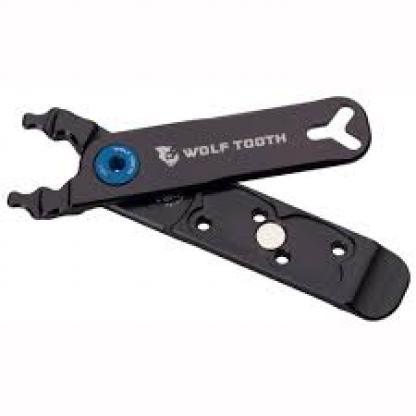Wrench: (4, 89, 414, 328)
